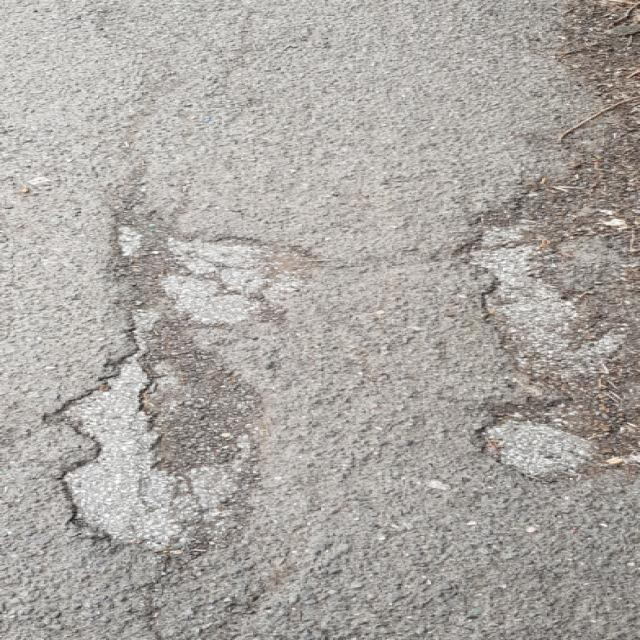Pothole: (37, 214, 307, 561), (457, 218, 625, 365), (465, 392, 620, 483)
